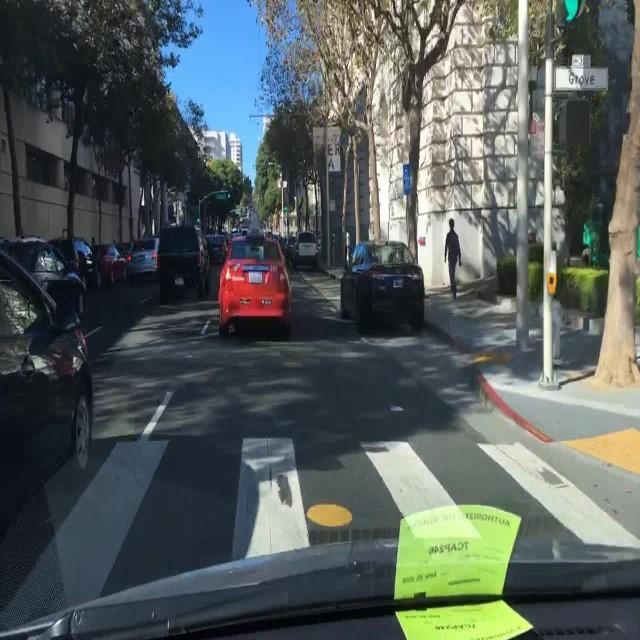normal: (200, 209, 478, 370)
